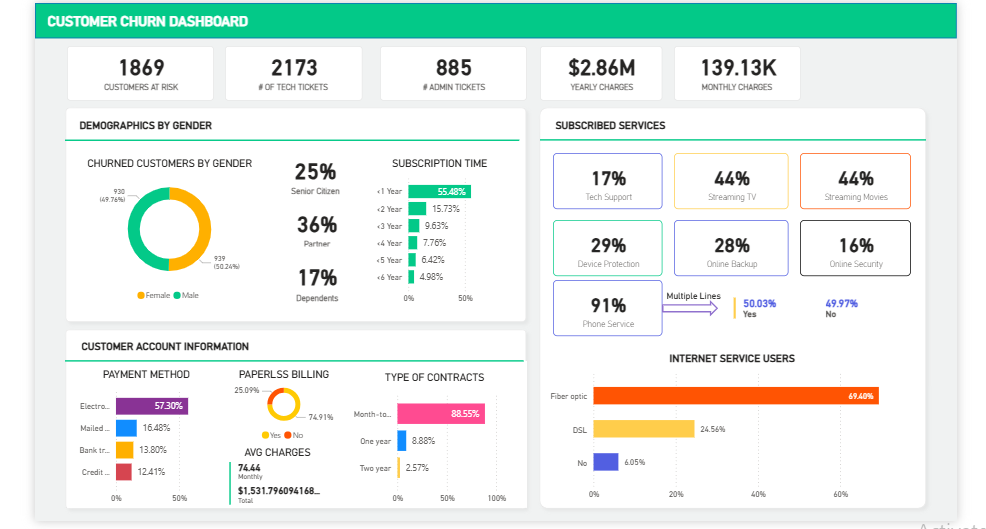

This screenshot's page, from the dashboard's own definition file:
{"tool":"powerbi","page":{"name":"Churn Dashboard","canvas":[1280,720],"ordinal":0},"visuals":[{"type":"shape","box":[0,0,1280,49],"z":0},{"type":"shape","box":[34,136,658,316],"z":0,"group":"g1"},{"type":"card","fields":{"Values":["Churn.% Tech Support"]},"box":[720,208,152.4,78.4],"z":0,"group":"g4"},{"type":"shape","box":[692,136,555,575],"z":1000},{"type":"donutChart","title":"CHURNED CUSTOMERS BY GENDER","fields":{"Category":["01 Churn-Dataset.gender"],"Y":["CountNonNull(01 Churn-Dataset.gender)"]},"box":[61.1,204.4,252.2,223.4],"z":1000,"group":"g1"},{"type":"card","fields":{"Values":["Churn.% Streaming TV"]},"box":[887.4,208,159.5,78.4],"z":1000,"group":"g4"},{"type":"shape","box":[702,123,536,133],"z":1500,"group":"g3"},{"type":"shape","box":[42,430,636.8,133],"z":1500,"group":"g2"},{"type":"textbox","box":[12,8,438,33],"z":2000},{"type":"textbox","box":[703.8,145,522.6,38],"z":2000,"group":"g3"},{"type":"textbox","box":[42.7,146.1,630.9,47.3],"z":2000,"group":"g1"},{"type":"card","fields":{"Values":["Churn.% Streaming Movies"]},"box":[1062.8,208,154.2,78.4],"z":2000,"group":"g4"},{"type":"textbox","box":[44.2,452,636.8,38],"z":2000,"group":"g2"},{"type":"card","fields":{"Values":["Churn.% of Senior Citizen"]},"box":[330.5,204.4,118,77.5],"z":3000,"group":"g1"},{"type":"card","fields":{"Values":["Churn.% Device Protection"]},"box":[720,300.6,152.4,78.4],"z":3000,"group":"g4"},{"type":"shape","box":[34,444,658,267],"z":3000},{"type":"card","fields":{"Values":["CountNonNull(01 Churn-Dataset.customerID)"]},"box":[44,60,204,76],"z":4000},{"type":"card","fields":{"Values":["Churn.% of partner"]},"box":[329.5,278.9,125.5,74.5],"z":4000,"group":"g1"},{"type":"card","fields":{"Values":["Churn.% Online Backup"]},"box":[887.4,300.6,159.5,78.4],"z":4000,"group":"g4"},{"type":"shape","box":[42.7,151.1,630.9,78.5],"z":5000,"group":"g1"},{"type":"card","fields":{"Values":["Churn.% Online Sec"]},"box":[1062.8,300.6,154.2,78.4],"z":5000,"group":"g4"},{"type":"card","fields":{"Values":["Churn.% Phone Service"]},"box":[720,385,152,78],"z":5000},{"type":"card","fields":{"Values":["Sum(01 Churn-Dataset.numTechTickets)"]},"box":[264,60,191,76],"z":6000},{"type":"card","fields":{"Values":["Churn.% of Dependents"]},"box":[329.5,351.4,125.5,79.5],"z":6000,"group":"g1"},{"type":"clusteredBarChart","title":"SUBSCRIPTION TIME","fields":{"Category":["Churn.Tenure(in years)"],"Y":["CountNonNull(Churn.Churn)"]},"box":[466.9,204.4,190.5,220.4],"z":7000,"group":"g1"},{"type":"clusteredBarChart","title":"PAYMENT METHOD","fields":{"Category":["Churn.PaymentMethod"],"Y":["CountNonNull(Churn.PaymentMethod)"]},"box":[44,497,220,204],"z":7000},{"type":"card","fields":{"Values":["Sum(01 Churn-Dataset.TotalCharges)"]},"box":[702,60,170,76],"z":8000},{"type":"card","fields":{"Values":["Sum(01 Churn-Dataset.numAdminTickets)"]},"box":[479,60,204,76],"z":9000},{"type":"group","id":"g1","title":"Group 1","box":[34,136,658,316],"z":10000},{"type":"card","fields":{"Values":["Sum(01 Churn-Dataset.MonthlyCharges)"]},"box":[887,60,176,76],"z":11000},{"type":"donutChart","title":"PAPERLSS BILLING","fields":{"Category":["Churn.PaperlessBilling"],"Y":["CountNonNull(Churn.PaperlessBilling)"]},"box":[248,497,194,126],"z":12000},{"type":"multiRowCard","title":"AVG CHARGES","fields":{"Values":["Avg(Churn.MonthlyCharges)","Avg(Churn.TotalCharges)"]},"box":[264,606,143,95],"z":13000},{"type":"clusteredBarChart","title":"TYPE OF CONTRACTS","fields":{"Category":["Churn.Contract"],"Y":["CountNonNull(Churn.Contract)"]},"box":[426,497,257,204],"z":14000},{"type":"group","id":"g2","title":"Group 2","box":[42,430,639,133],"z":15000},{"type":"group","id":"g3","title":"Group 2","box":[702,123,536,133],"z":16000},{"type":"group","id":"g4","title":"Group 3","box":[720,208,496,160],"z":17000},{"type":"shape","box":[871,412,78,23],"z":18000},{"type":"textbox","box":[872,391,300,30],"z":19000},{"type":"multiRowCard","fields":{"Values":["Churn.% Yes-Multiple Lines","Churn.% No-Multiple Lines"]},"box":[965,404,252,53],"z":20000},{"type":"barChart","title":"INTERNET SERVICE USERS","fields":{"Category":["Churn.InternetService"],"Y":["CountNonNull(Churn.InternetService)"]},"box":[710,471,517,230],"z":21000}]}

Visuals, with their boxes on the page's 1280x720 design canvas (x1, y1, x2, y2). These are canvas units, not pixel positions in the 986x529 screenshot, which may show the page scaled, cropped or inside an application window:
shape: {"left": 0, "top": 0, "right": 1280, "bottom": 49}
shape: {"left": 34, "top": 136, "right": 692, "bottom": 452}
card - Churn.% Tech Support: {"left": 720, "top": 208, "right": 872, "bottom": 286}
shape: {"left": 692, "top": 136, "right": 1247, "bottom": 711}
"CHURNED CUSTOMERS BY GENDER" donutChart: {"left": 61, "top": 204, "right": 313, "bottom": 428}
card - Churn.% Streaming TV: {"left": 887, "top": 208, "right": 1047, "bottom": 286}
shape: {"left": 702, "top": 123, "right": 1238, "bottom": 256}
shape: {"left": 42, "top": 430, "right": 679, "bottom": 563}
textbox: {"left": 12, "top": 8, "right": 450, "bottom": 41}
textbox: {"left": 704, "top": 145, "right": 1226, "bottom": 183}
textbox: {"left": 43, "top": 146, "right": 674, "bottom": 193}
card - Churn.% Streaming Movies: {"left": 1063, "top": 208, "right": 1217, "bottom": 286}
textbox: {"left": 44, "top": 452, "right": 681, "bottom": 490}
card - Churn.% of Senior Citizen: {"left": 330, "top": 204, "right": 448, "bottom": 282}
card - Churn.% Device Protection: {"left": 720, "top": 301, "right": 872, "bottom": 379}
shape: {"left": 34, "top": 444, "right": 692, "bottom": 711}
card - CountNonNull(01 Churn-Dataset.customerID): {"left": 44, "top": 60, "right": 248, "bottom": 136}
card - Churn.% of partner: {"left": 330, "top": 279, "right": 455, "bottom": 353}
card - Churn.% Online Backup: {"left": 887, "top": 301, "right": 1047, "bottom": 379}
shape: {"left": 43, "top": 151, "right": 674, "bottom": 230}
card - Churn.% Online Sec: {"left": 1063, "top": 301, "right": 1217, "bottom": 379}
card - Churn.% Phone Service: {"left": 720, "top": 385, "right": 872, "bottom": 463}
card - Sum(01 Churn-Dataset.numTechTickets): {"left": 264, "top": 60, "right": 455, "bottom": 136}
card - Churn.% of Dependents: {"left": 330, "top": 351, "right": 455, "bottom": 431}
"SUBSCRIPTION TIME" clusteredBarChart: {"left": 467, "top": 204, "right": 657, "bottom": 425}
"PAYMENT METHOD" clusteredBarChart: {"left": 44, "top": 497, "right": 264, "bottom": 701}
card - Sum(01 Churn-Dataset.TotalCharges): {"left": 702, "top": 60, "right": 872, "bottom": 136}
card - Sum(01 Churn-Dataset.numAdminTickets): {"left": 479, "top": 60, "right": 683, "bottom": 136}
"Group 1" group: {"left": 34, "top": 136, "right": 692, "bottom": 452}
card - Sum(01 Churn-Dataset.MonthlyCharges): {"left": 887, "top": 60, "right": 1063, "bottom": 136}
"PAPERLSS BILLING" donutChart: {"left": 248, "top": 497, "right": 442, "bottom": 623}
"AVG CHARGES" multiRowCard: {"left": 264, "top": 606, "right": 407, "bottom": 701}
"TYPE OF CONTRACTS" clusteredBarChart: {"left": 426, "top": 497, "right": 683, "bottom": 701}
"Group 2" group: {"left": 42, "top": 430, "right": 681, "bottom": 563}
"Group 2" group: {"left": 702, "top": 123, "right": 1238, "bottom": 256}
"Group 3" group: {"left": 720, "top": 208, "right": 1216, "bottom": 368}
shape: {"left": 871, "top": 412, "right": 949, "bottom": 435}
textbox: {"left": 872, "top": 391, "right": 1172, "bottom": 421}
multiRowCard - Churn.% Yes-Multiple Lines x Churn.% No-Multiple Lines: {"left": 965, "top": 404, "right": 1217, "bottom": 457}
"INTERNET SERVICE USERS" barChart: {"left": 710, "top": 471, "right": 1227, "bottom": 701}
